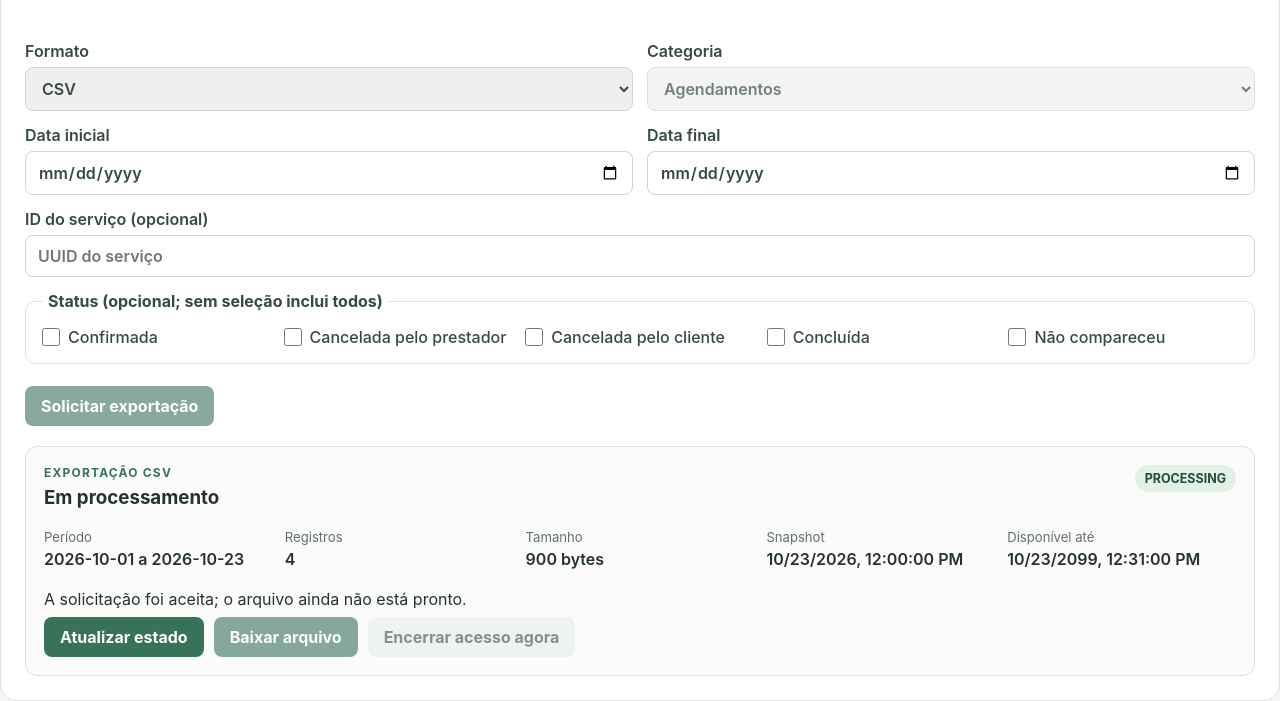
Test: ExportCenter DOM interactions › ignores an older polling response after a newer manual refresh wins
(page scrolled)
What coordinates should you click on to do the following:
click the button "Atualizar estado"
I would click on:
 (124, 637)
Its box is [44, 617, 204, 657].
(page scrolled)
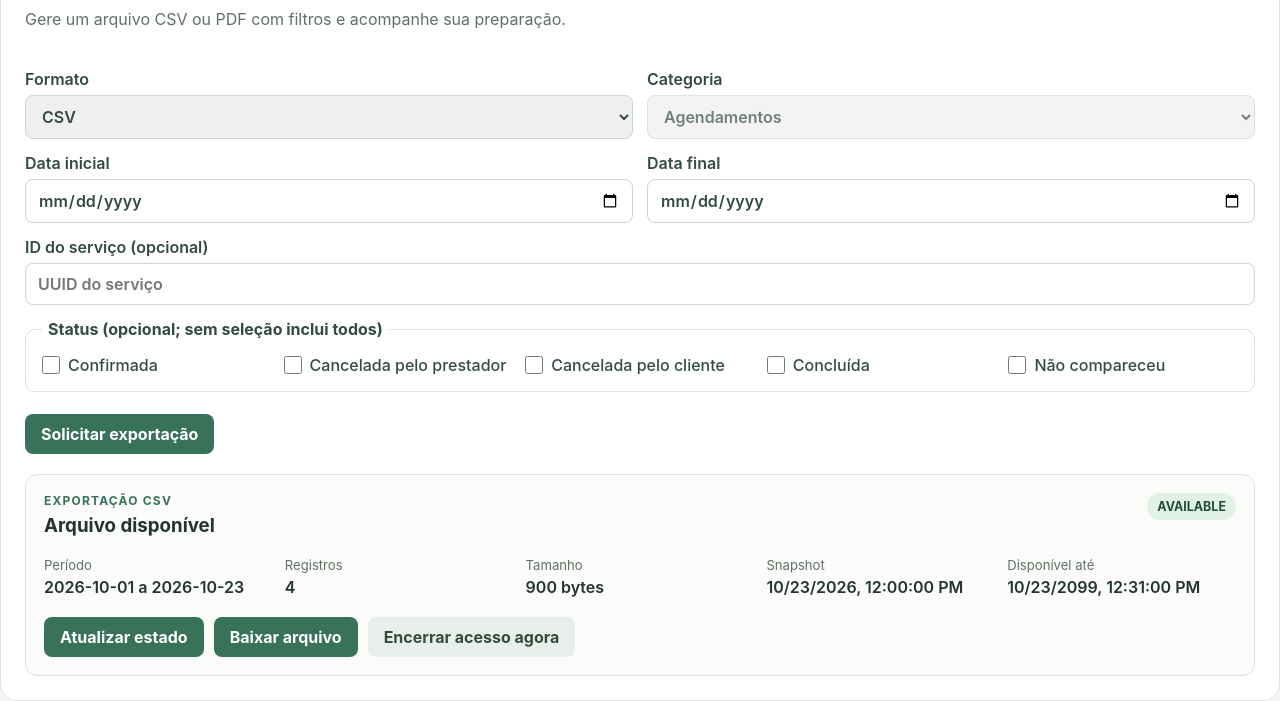
Expected: the text "Arquivo disponível" is shown, [44, 514, 215, 537]
